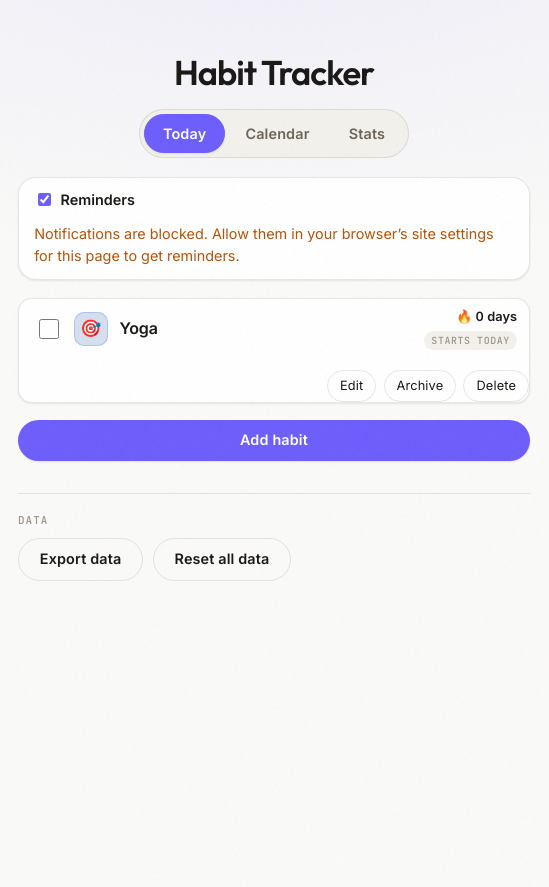
Test case: App › edits a habit through the row edit form
The width and height of the screenshot is (549, 887).
Click the button with aria-label "Edit Yoga": (352, 386) top-left (327, 370), bottom-right (376, 402)
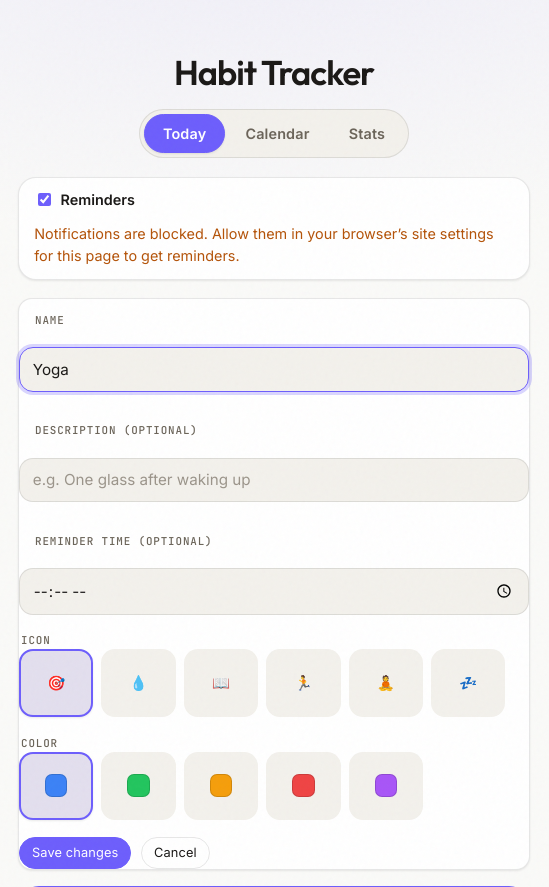
Now the field labelled "Name" holds "Yoga"
Replace the text in the field labelled "Name" with "Power yoga": (274, 370) top-left (19, 347), bottom-right (529, 392)
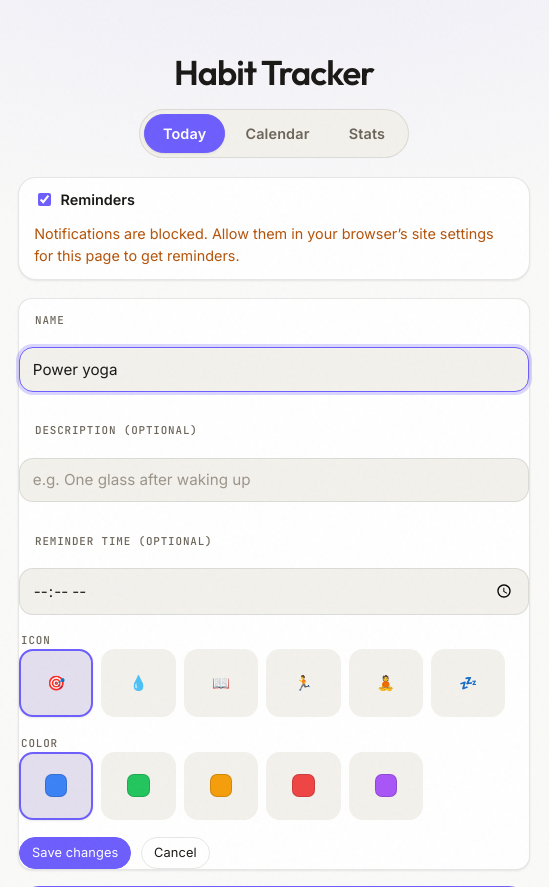
Click the button "Save changes": (75, 853) top-left (19, 837), bottom-right (131, 869)
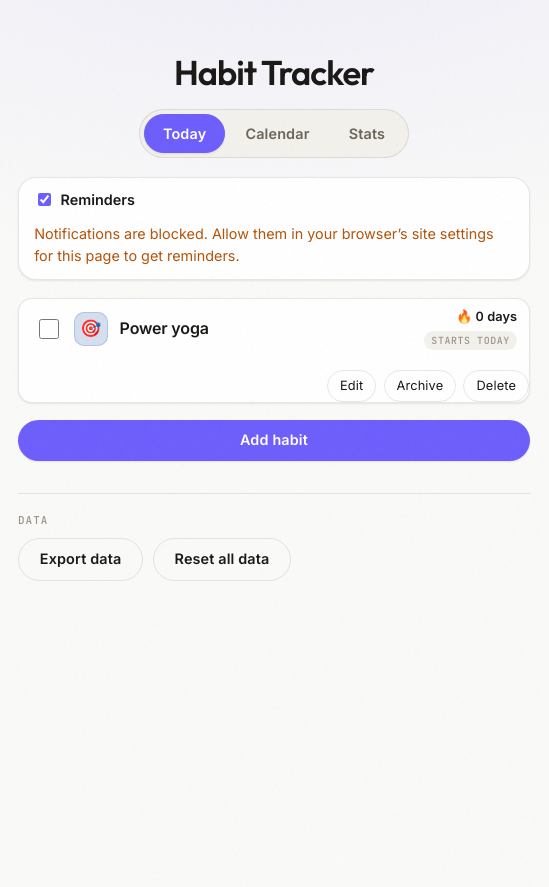
Now the text "Power yoga" is shown, box top-left (120, 316), bottom-right (209, 341)
